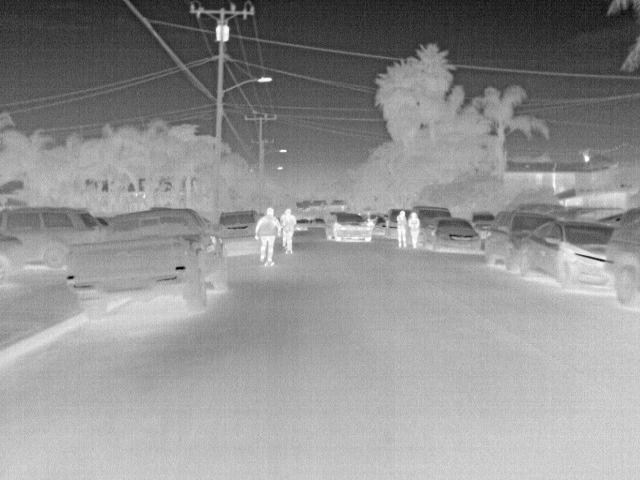car: (65, 206, 229, 321), (514, 221, 614, 292), (1, 205, 96, 269), (484, 211, 555, 267), (604, 208, 638, 305), (420, 220, 483, 254), (218, 209, 263, 256), (328, 210, 373, 244), (412, 205, 450, 226), (466, 210, 495, 235), (384, 207, 403, 238), (373, 213, 386, 234), (294, 218, 311, 232), (311, 216, 327, 228)
person: (256, 208, 282, 264), (278, 207, 301, 255), (395, 210, 408, 245), (409, 209, 421, 246)
